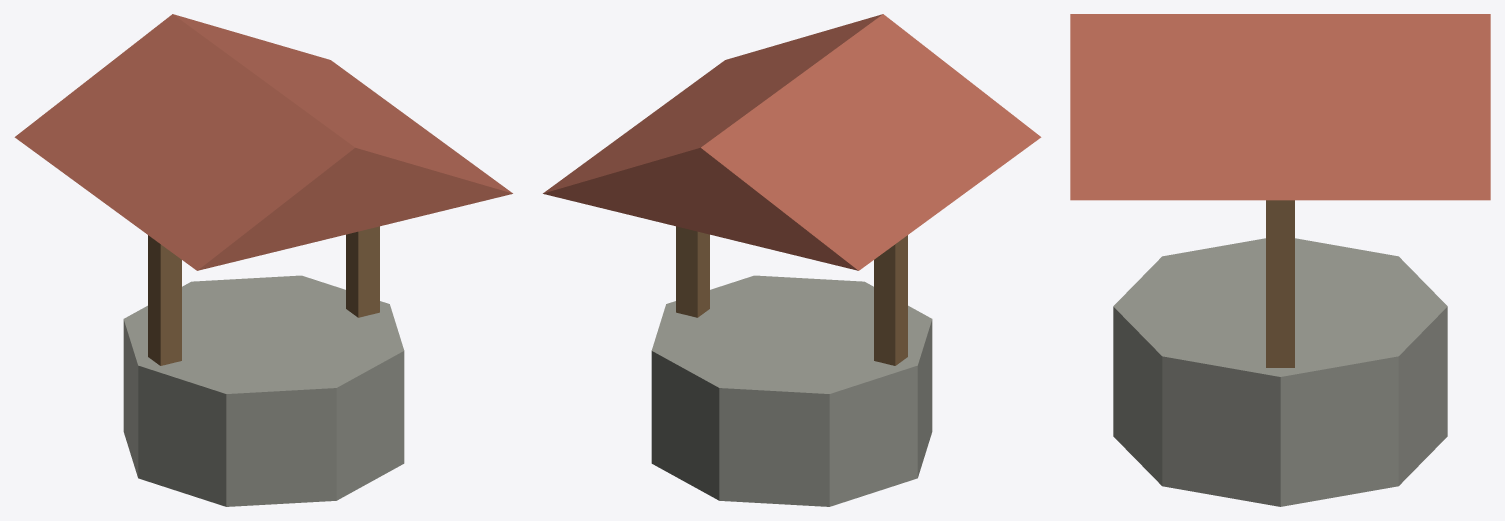
File: well.glb
3 views of the same model, side by side, from view 1: azimuth 30°, elevation 25°; view 2: azimuth 150°, elevation 25°; view 3: azimuth 270°, elevation 25° (orthographic). The views are drawn at different scales.
Size of the model in its own units: 1.76 by 1.95 by 1.76.
